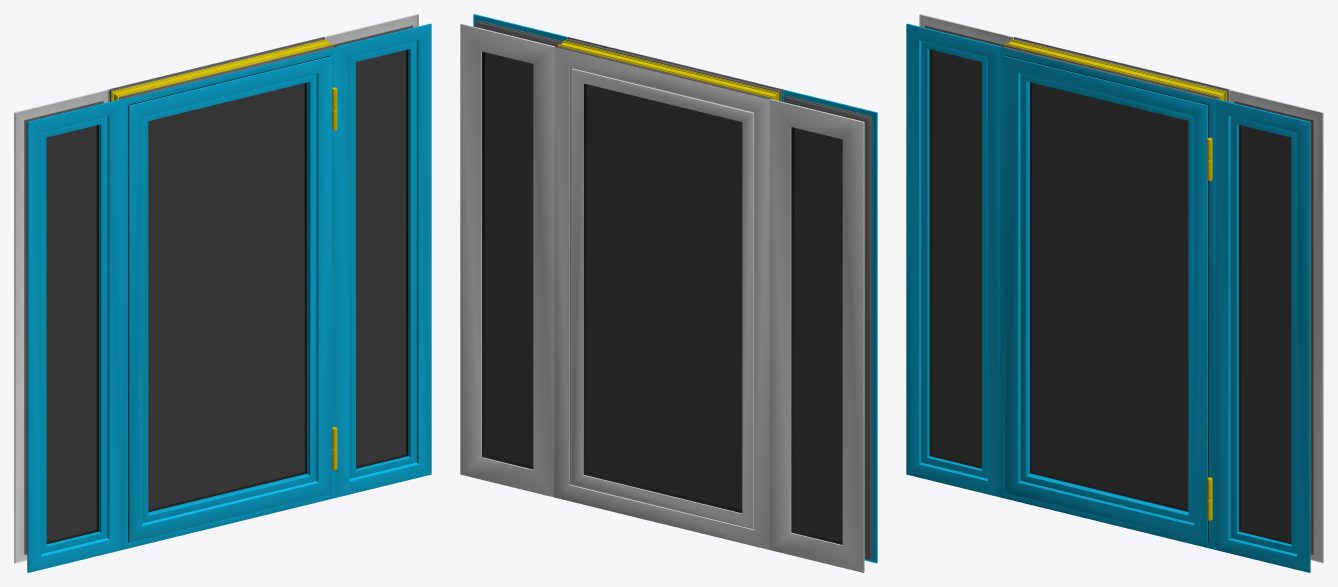
Rendered from 98_1_door.fbx.
The picture shows the model from 3 angles, left to right: view 1: azimuth 30°, elevation 25°; view 2: azimuth 150°, elevation 25°; view 3: azimuth 330°, elevation 25°; orthographic projection.
Visible parts, largest first — view 1: SM_Door_Frame_98_L_021, SM_extra_98_018, SM_Door_Frame_98_L_023, SM_extra_98_017, SM_extra_98_014, SM_extra_98_013, SM_Window_Frame_1_door_98_002, SM_Door_Frame_98_L_026, SM_Window_Frame_1_door_98_007, SM_extra_98_019, SM_extra_98_020, SM_Window_Frame_1_door_98_003; view 2: SM_Door_Frame_98_L_021, SM_extra_98_018, SM_extra_98_017, SM_Window_Frame_1_door_98_003, SM_extra_98_013, SM_extra_98_014, SM_Door_Frame_98_L_023, SM_Door_Frame_98_L_026, SM_extra_98_020, SM_Window_Frame_1_door_98_007, SM_extra_98_019, SM_Window_Frame_1_door_98_002; view 3: SM_Door_Frame_98_L_021, SM_extra_98_017, SM_Door_Frame_98_L_023, SM_extra_98_018, SM_extra_98_013, SM_extra_98_014, SM_Window_Frame_1_door_98_002, SM_Door_Frame_98_L_026, SM_Window_Frame_1_door_98_007, SM_extra_98_020, SM_extra_98_019, SM_Window_Frame_1_door_98_003.
Boxes of the visible parts, x1=… form: SM_Door_Frame_98_L_021: x1=148, y1=83, x2=304, y2=509; SM_extra_98_018: x1=14, y1=89, x2=122, y2=572; SM_Door_Frame_98_L_023: x1=129, y1=56, x2=331, y2=542; SM_extra_98_017: x1=324, y1=14, x2=431, y2=497; SM_extra_98_014: x1=46, y1=125, x2=96, y2=541; SM_extra_98_013: x1=356, y1=50, x2=405, y2=466; SM_Window_Frame_1_door_98_002: x1=119, y1=45, x2=337, y2=549; SM_Door_Frame_98_L_026: x1=128, y1=55, x2=330, y2=542; SM_Window_Frame_1_door_98_007: x1=111, y1=39, x2=333, y2=101; SM_extra_98_019: x1=356, y1=49, x2=408, y2=468; SM_extra_98_020: x1=46, y1=125, x2=98, y2=543; SM_Window_Frame_1_door_98_003: x1=108, y1=37, x2=323, y2=101; SM_Door_Frame_98_L_021: x1=586, y1=84, x2=742, y2=510; SM_extra_98_018: x1=769, y1=89, x2=877, y2=572; SM_extra_98_017: x1=460, y1=14, x2=567, y2=497; SM_Window_Frame_1_door_98_003: x1=554, y1=46, x2=771, y2=549; SM_extra_98_013: x1=485, y1=52, x2=533, y2=466; SM_extra_98_014: x1=794, y1=128, x2=842, y2=541; SM_Door_Frame_98_L_023: x1=570, y1=67, x2=754, y2=529; SM_Door_Frame_98_L_026: x1=583, y1=83, x2=742, y2=513; SM_extra_98_020: x1=791, y1=127, x2=842, y2=544; SM_Window_Frame_1_door_98_007: x1=557, y1=40, x2=779, y2=100; SM_extra_98_019: x1=482, y1=51, x2=533, y2=469; SM_Window_Frame_1_door_98_002: x1=565, y1=37, x2=783, y2=101; SM_Door_Frame_98_L_021: x1=1032, y1=83, x2=1188, y2=509; SM_extra_98_017: x1=1215, y1=89, x2=1323, y2=572; SM_Door_Frame_98_L_023: x1=1005, y1=56, x2=1207, y2=542; SM_extra_98_018: x1=906, y1=14, x2=1013, y2=497; SM_extra_98_013: x1=1241, y1=125, x2=1291, y2=541; SM_extra_98_014: x1=932, y1=50, x2=981, y2=466; SM_Window_Frame_1_door_98_002: x1=1000, y1=45, x2=1218, y2=549; SM_Door_Frame_98_L_026: x1=1005, y1=55, x2=1208, y2=542; SM_Window_Frame_1_door_98_007: x1=1004, y1=39, x2=1226, y2=101; SM_extra_98_020: x1=929, y1=49, x2=981, y2=468; SM_extra_98_019: x1=1239, y1=125, x2=1291, y2=543; SM_Window_Frame_1_door_98_003: x1=1014, y1=37, x2=1229, y2=101.
Size of the model in its own units: 150 by 160 by 10.77.
